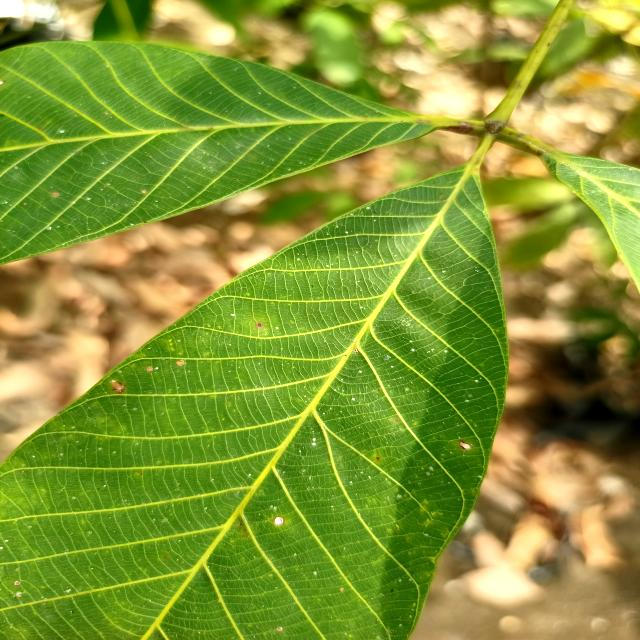Colletotrichum: (460, 440, 470, 450), (274, 516, 284, 524), (376, 457, 380, 460), (258, 324, 262, 326)
